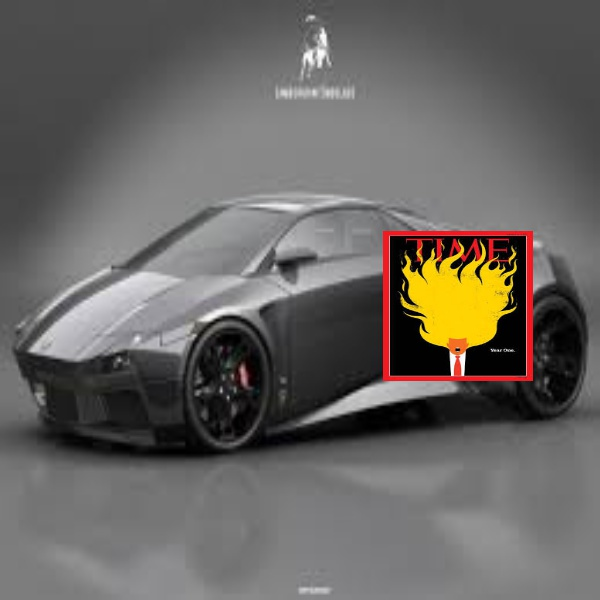time_cover: (370, 222, 547, 389)
